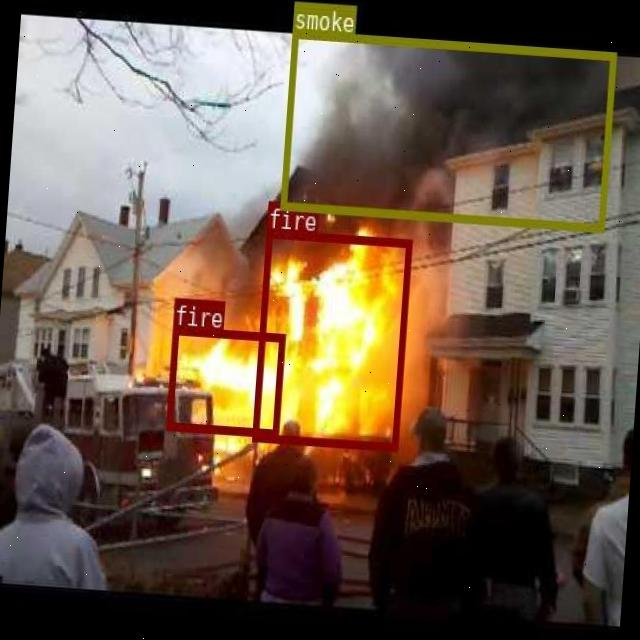fire: (252, 229, 411, 449), (165, 326, 284, 434)
smoke: (278, 29, 614, 230)
